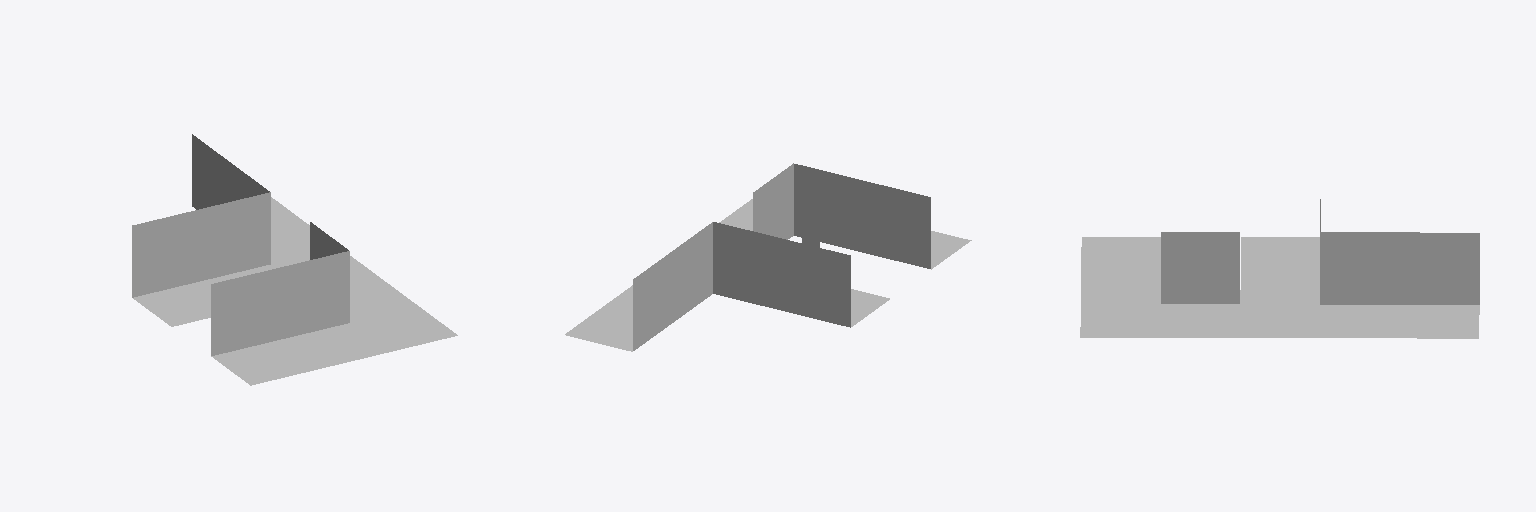
Rendered from dungeon_test.obj.
3 views of the same model, side by side, from view 1: azimuth 30°, elevation 25°; view 2: azimuth 150°, elevation 25°; view 3: azimuth 270°, elevation 25° (orthographic).
Parts seen in each view (by area): view 1: Cube; view 2: Cube; view 3: Cube.
Boxes of the visible parts, <box> form: Cube: <box>132,134,457,385</box>; Cube: <box>565,163,971,351</box>; Cube: <box>1080,199,1479,338</box>.
Bounding box in the file's own units: 12.1 × 4.5 × 20.02.